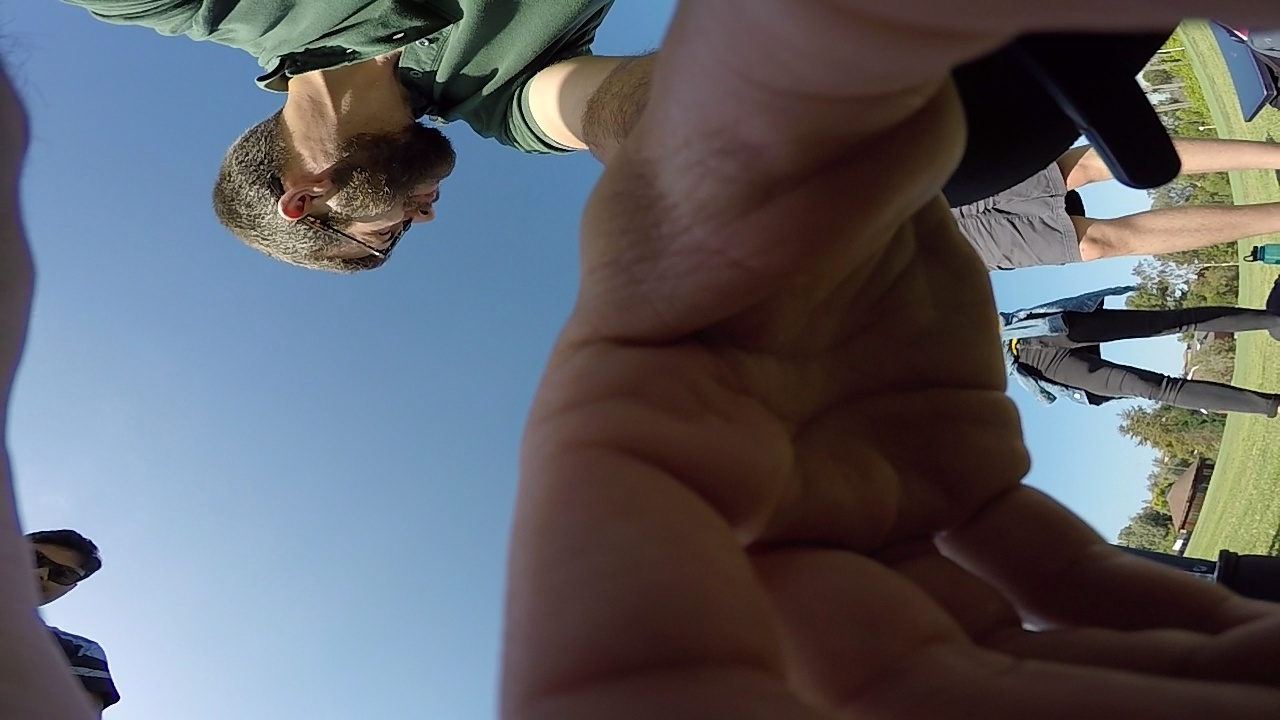person: (410, 1, 1263, 681), (136, 18, 1243, 455), (40, 22, 743, 705), (84, 23, 740, 430), (54, 0, 632, 268), (10, 521, 114, 714)
